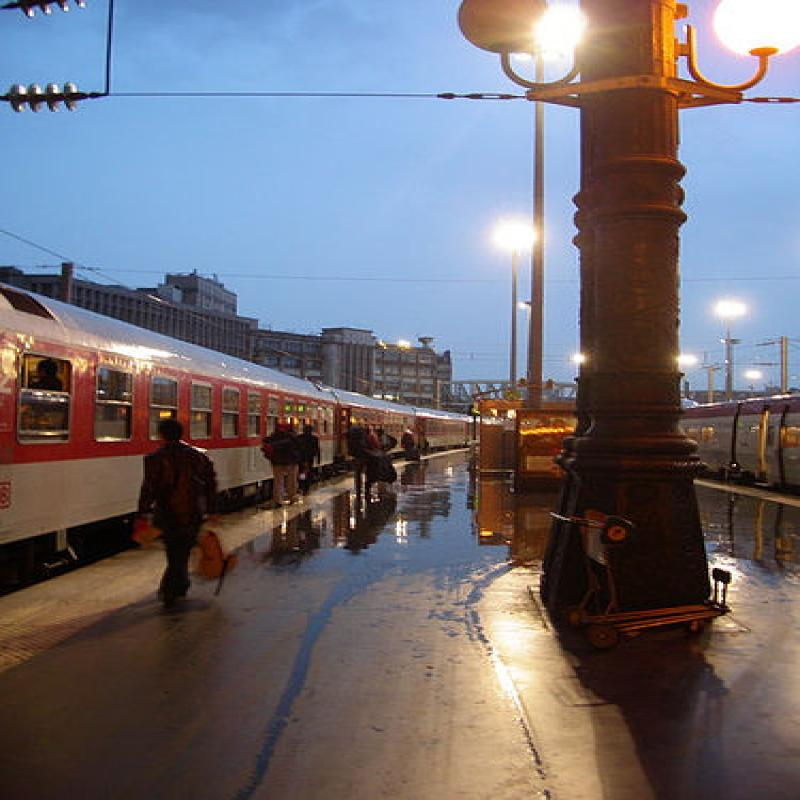train: (1, 283, 481, 600), (679, 393, 799, 489)
